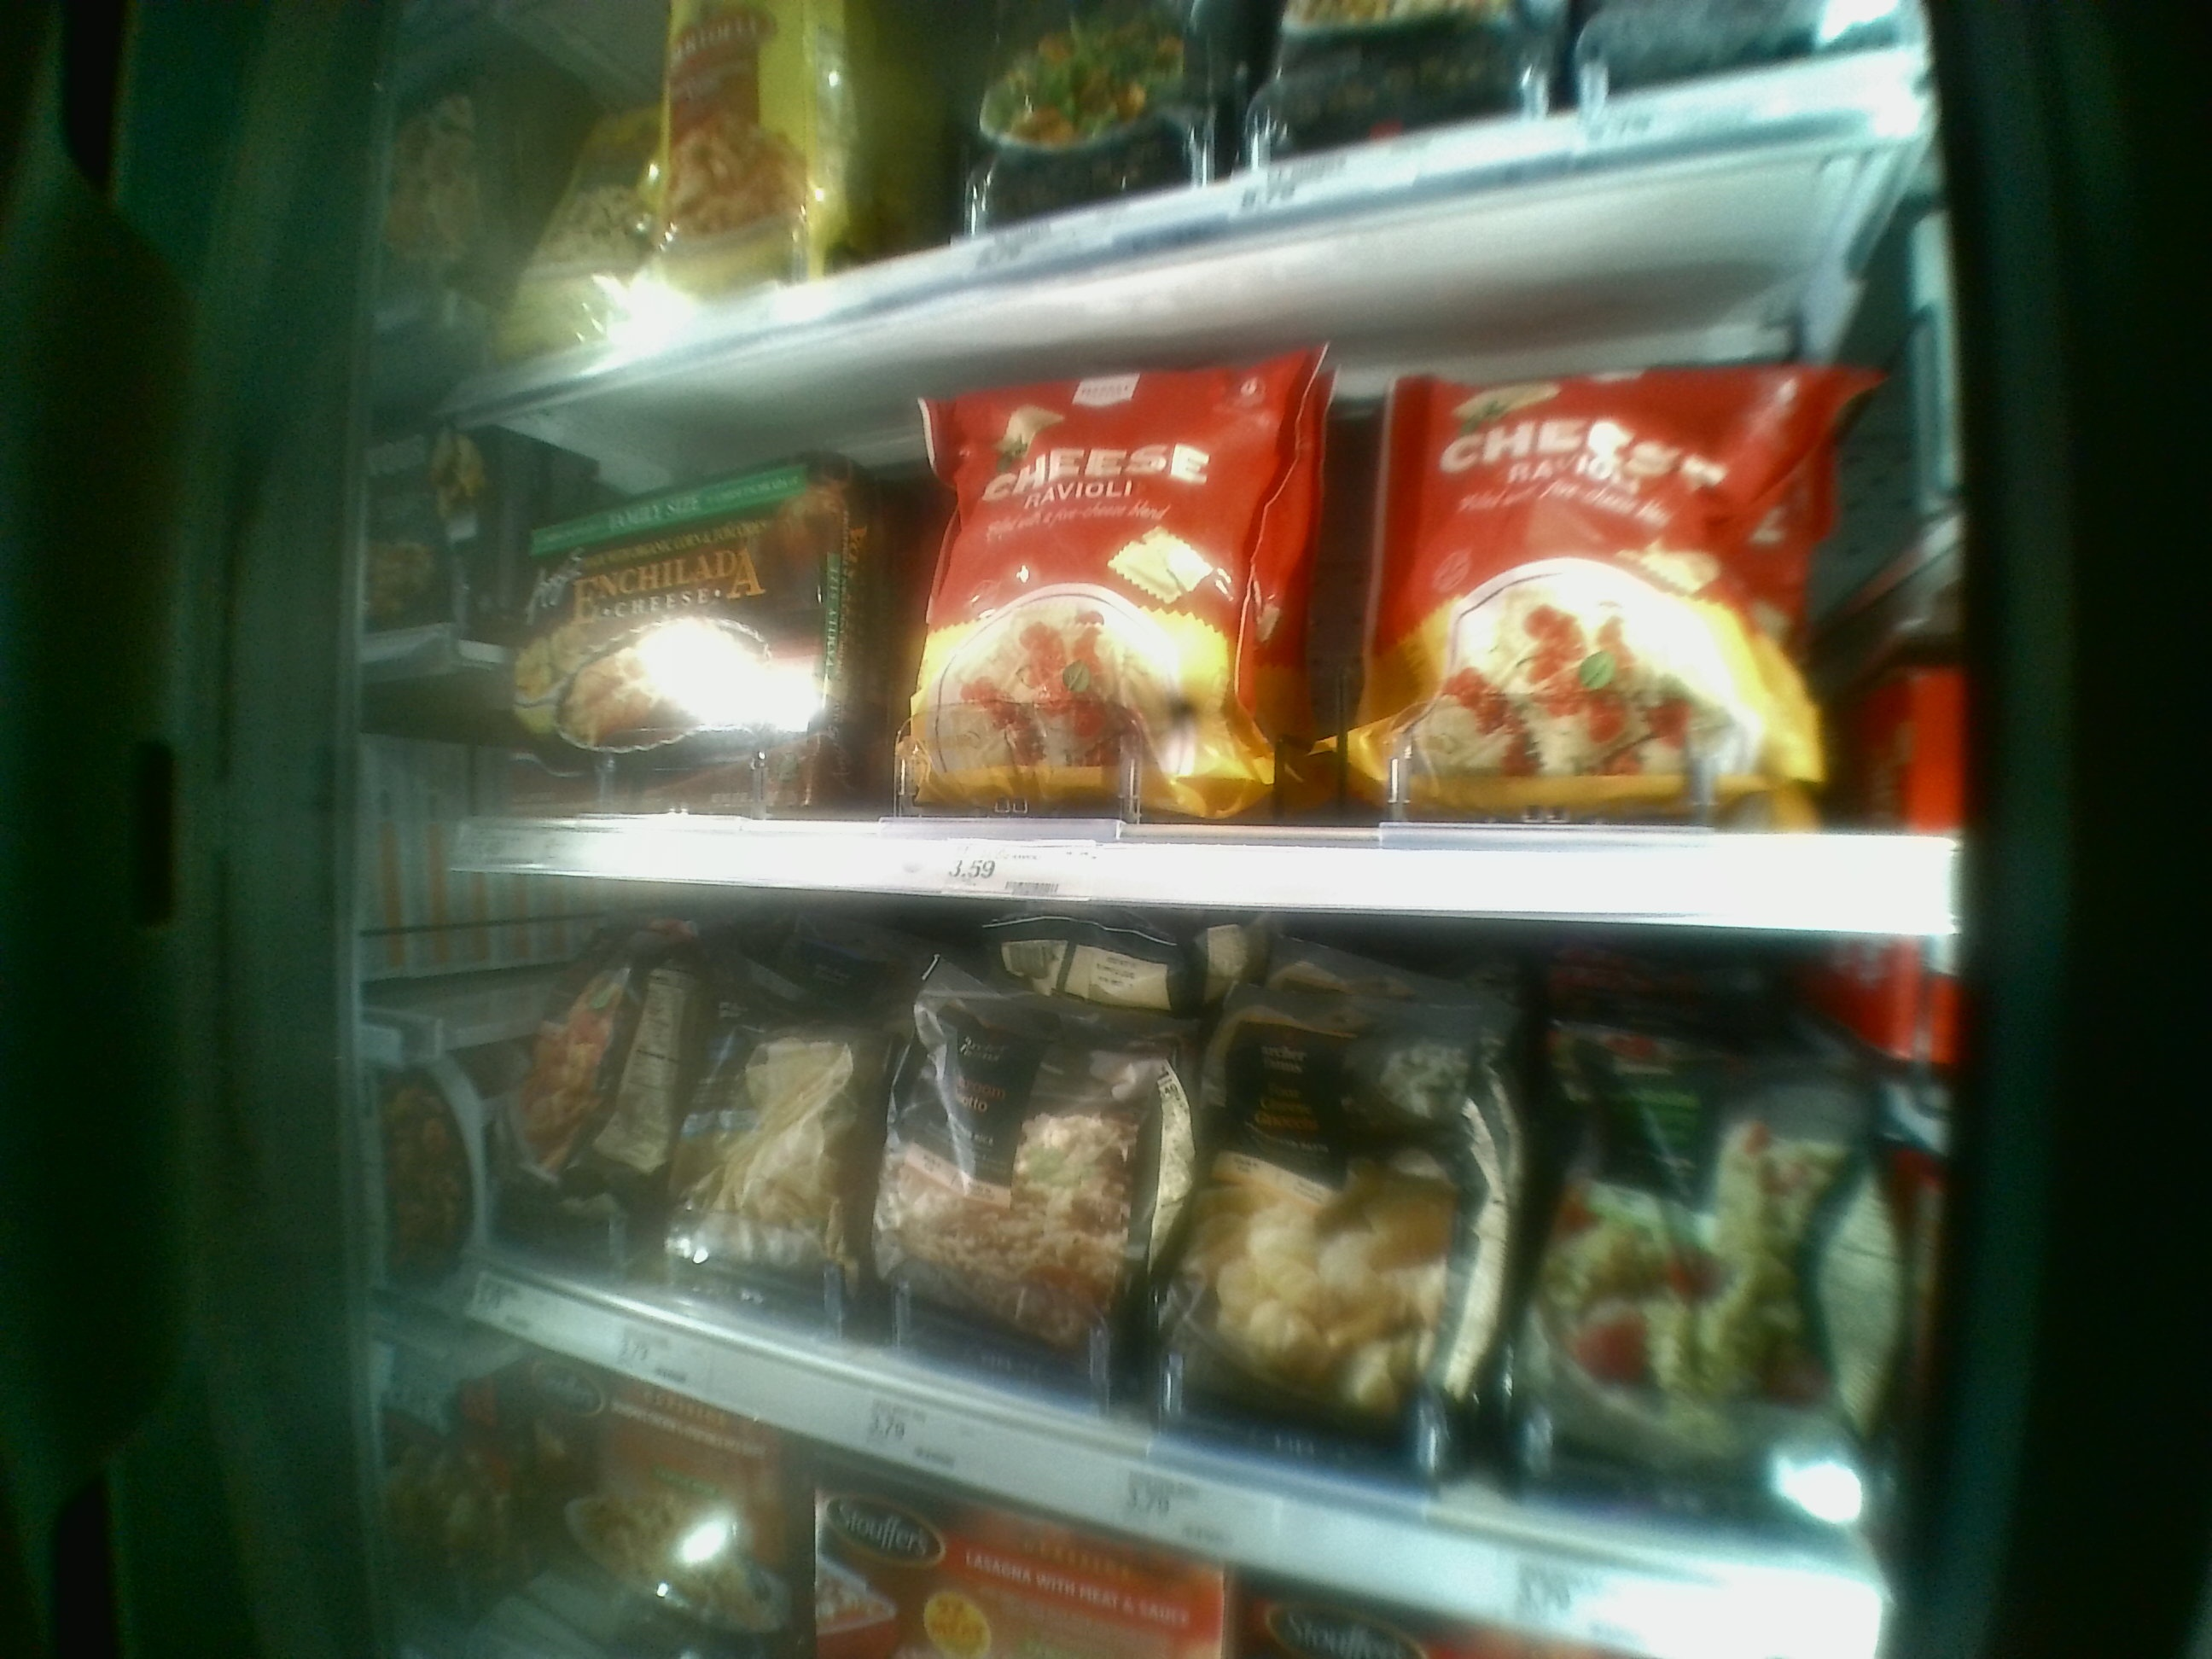shelf: (488, 131, 1956, 932)
